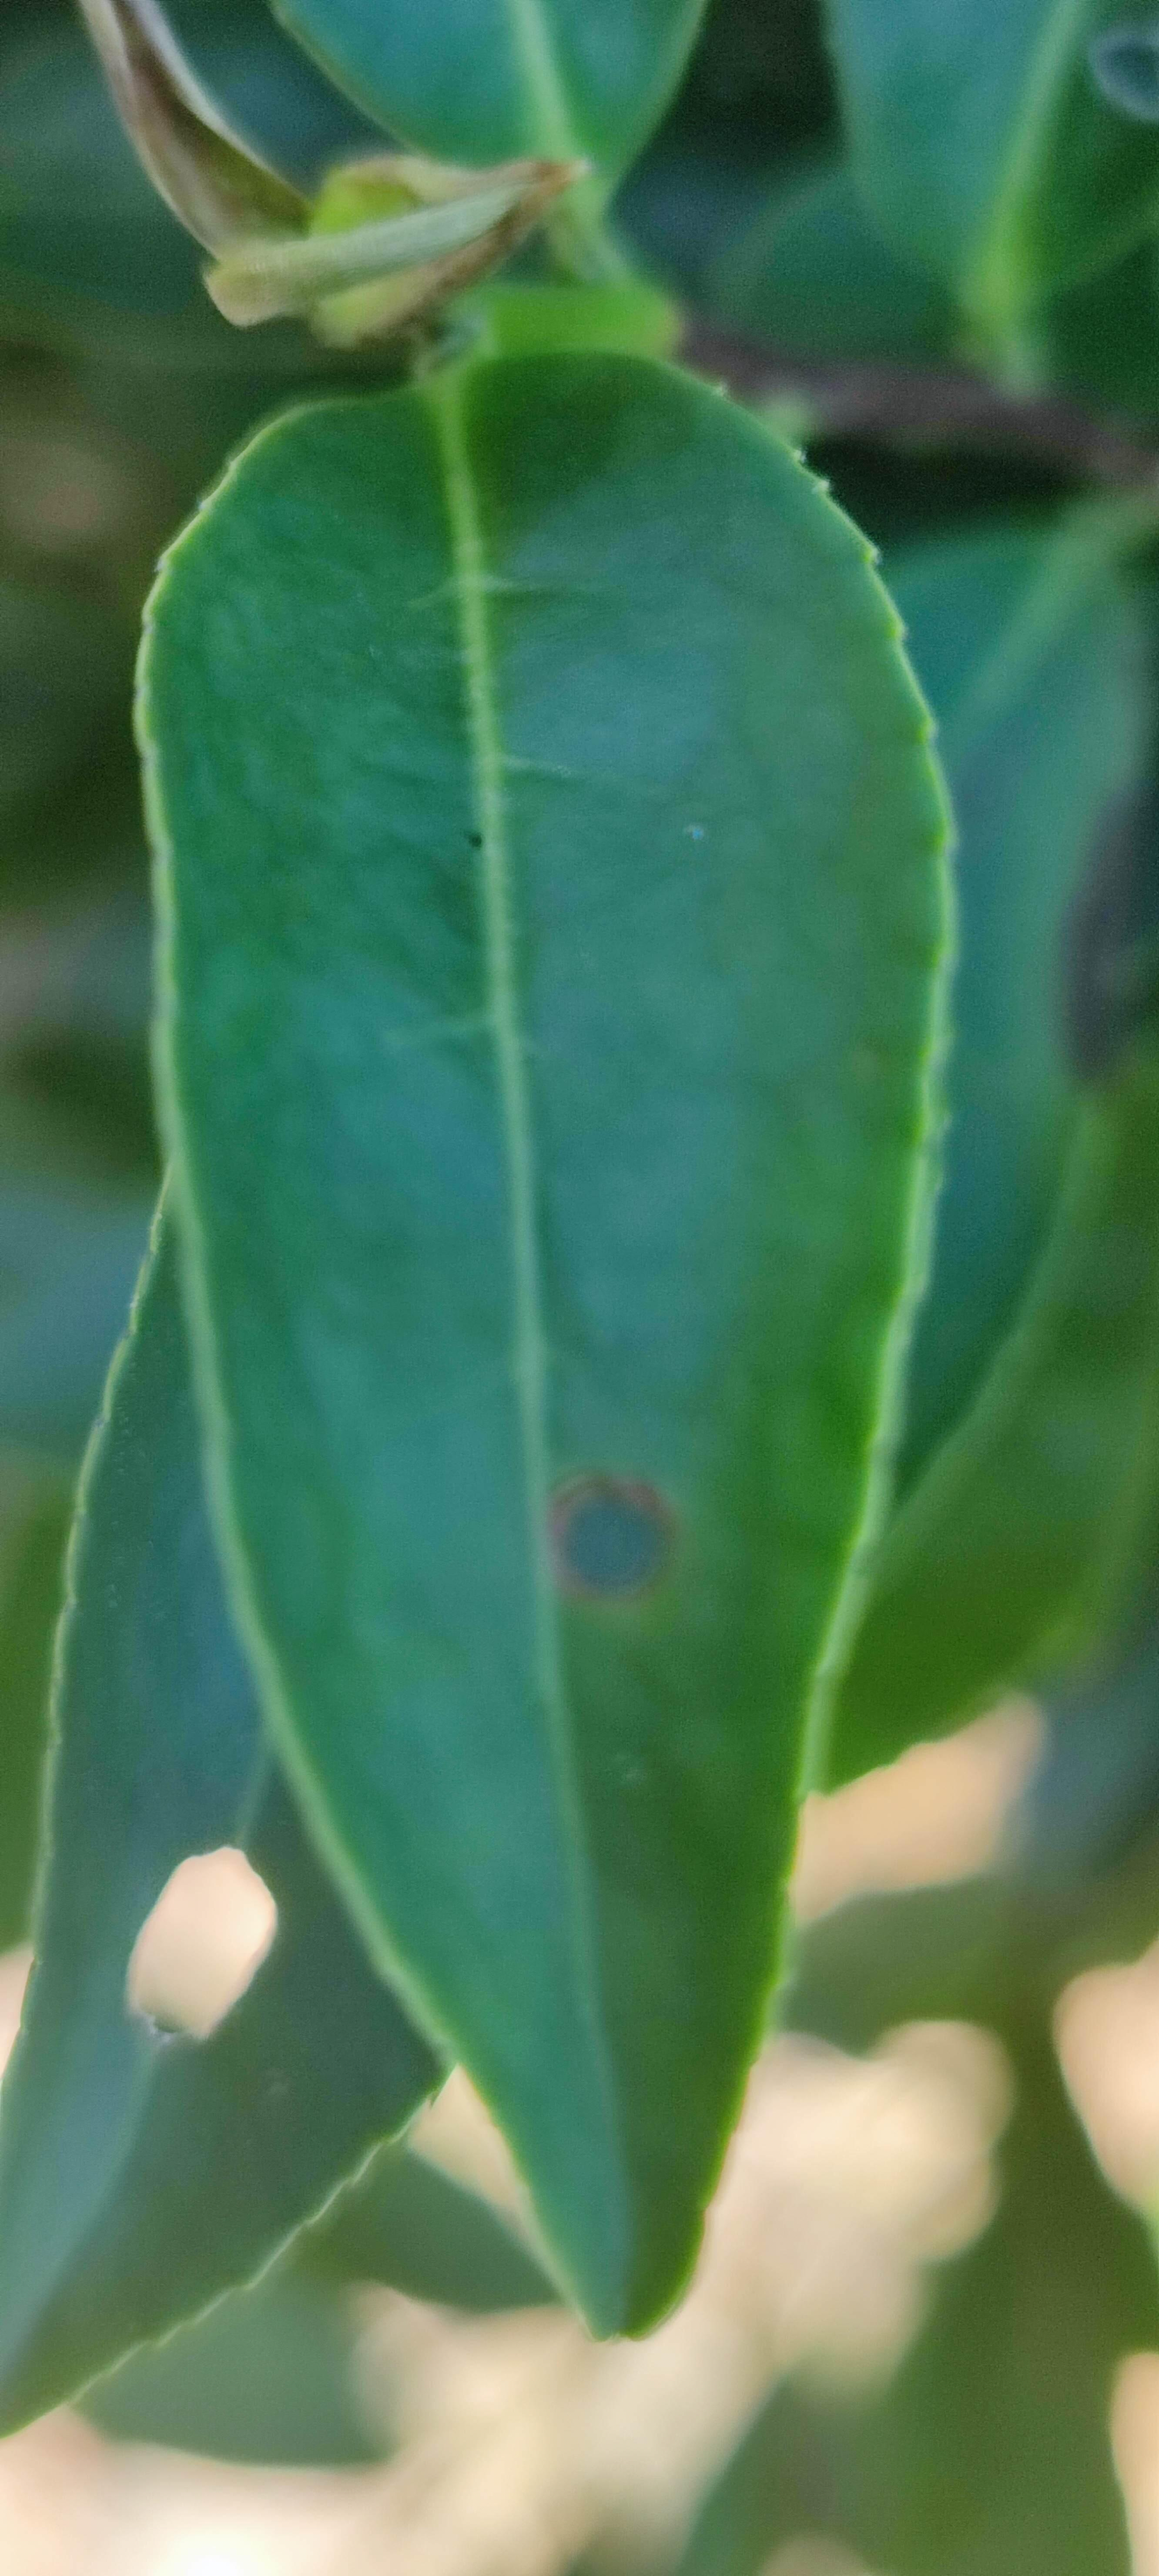chihuo_low: (128, 352, 965, 2343), (5, 1157, 448, 2451)
